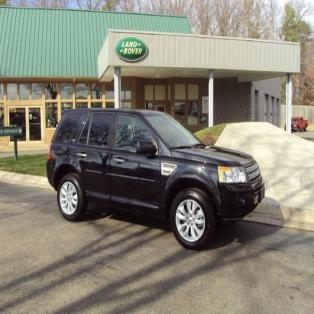Auto: (46, 109, 264, 249)
